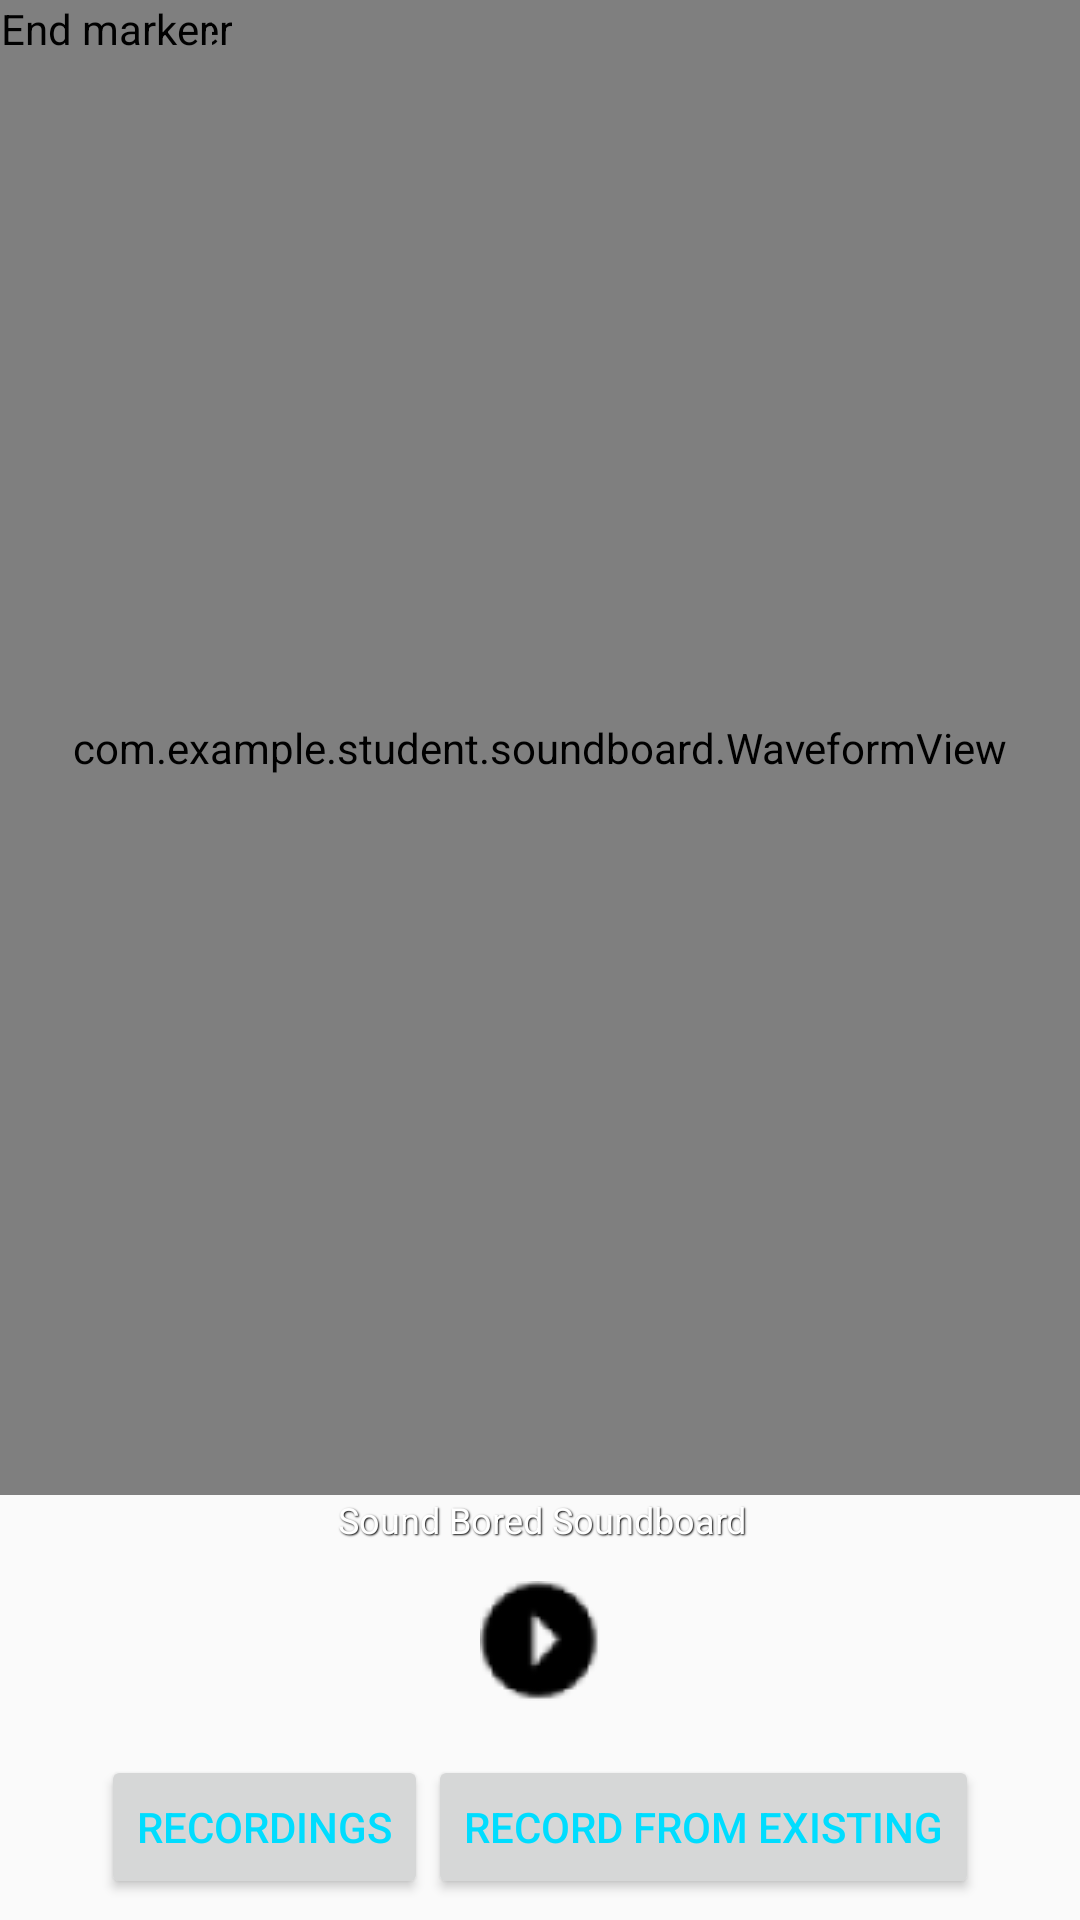

Locate icon controls on the screen. Image size 1080 × 1920, boxes as (x1, y1, x2, y2).
Play: (480, 1581, 598, 1699)
